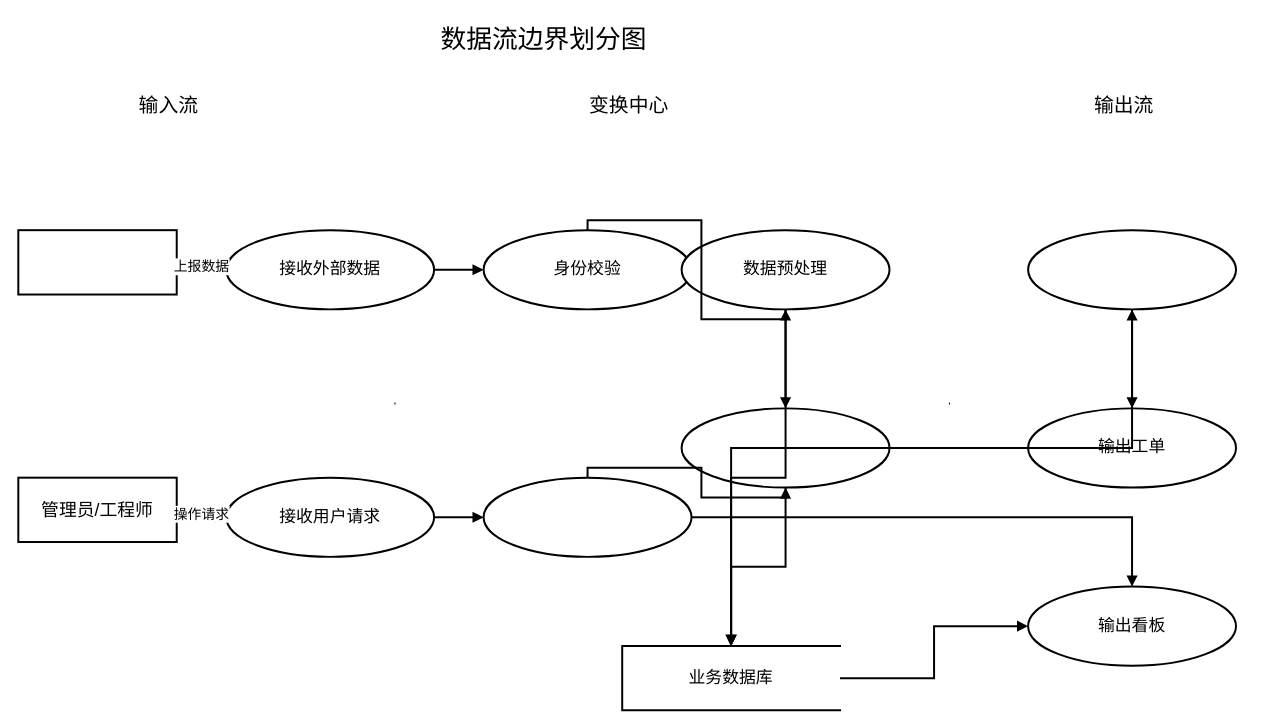
This 1287x728 diagram has some shape labels left out. Here are the shapes that lost their labels. From the top down, the box of each, then its label:
(17, 229, 177, 295): 燃气表设备
(1027, 229, 1237, 310): 输出告警
(680, 407, 890, 488): 异常检测
(482, 476, 692, 557): 业务调度
